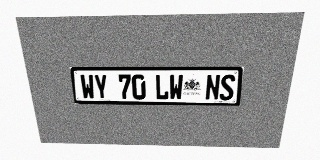0: (131, 74, 146, 100)
7: (117, 74, 132, 100)
L: (155, 74, 169, 100)
N: (205, 74, 221, 100)
S: (219, 74, 236, 100)
W: (80, 74, 95, 99), (169, 74, 183, 100)
Y: (93, 74, 109, 99)
